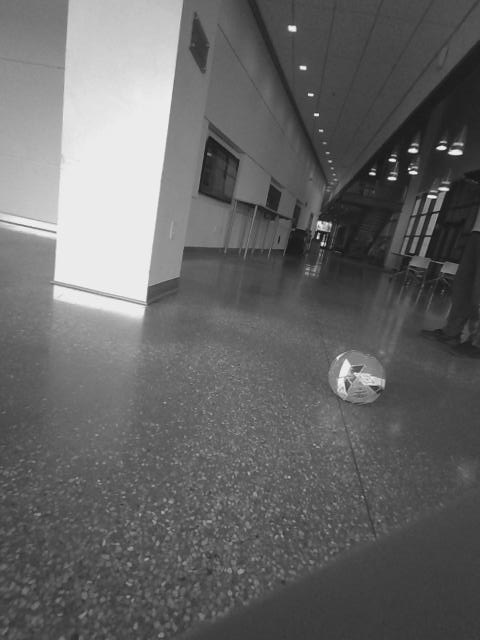ball: (325, 345, 390, 407)
